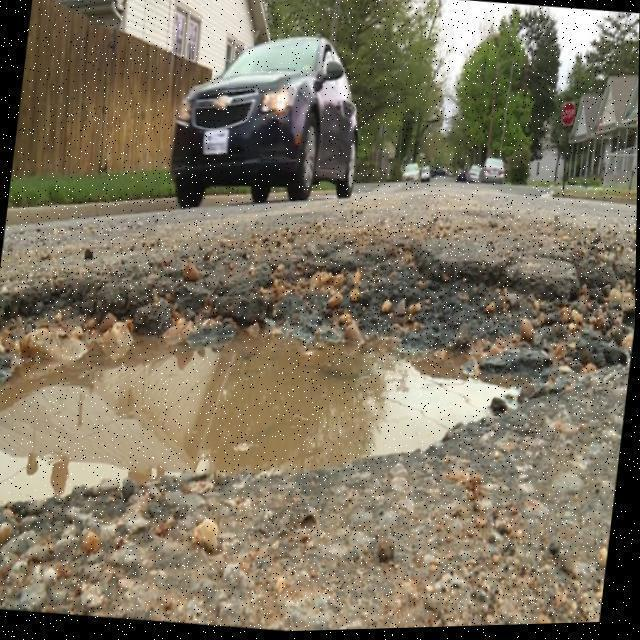Pothole: (0, 237, 638, 511)
